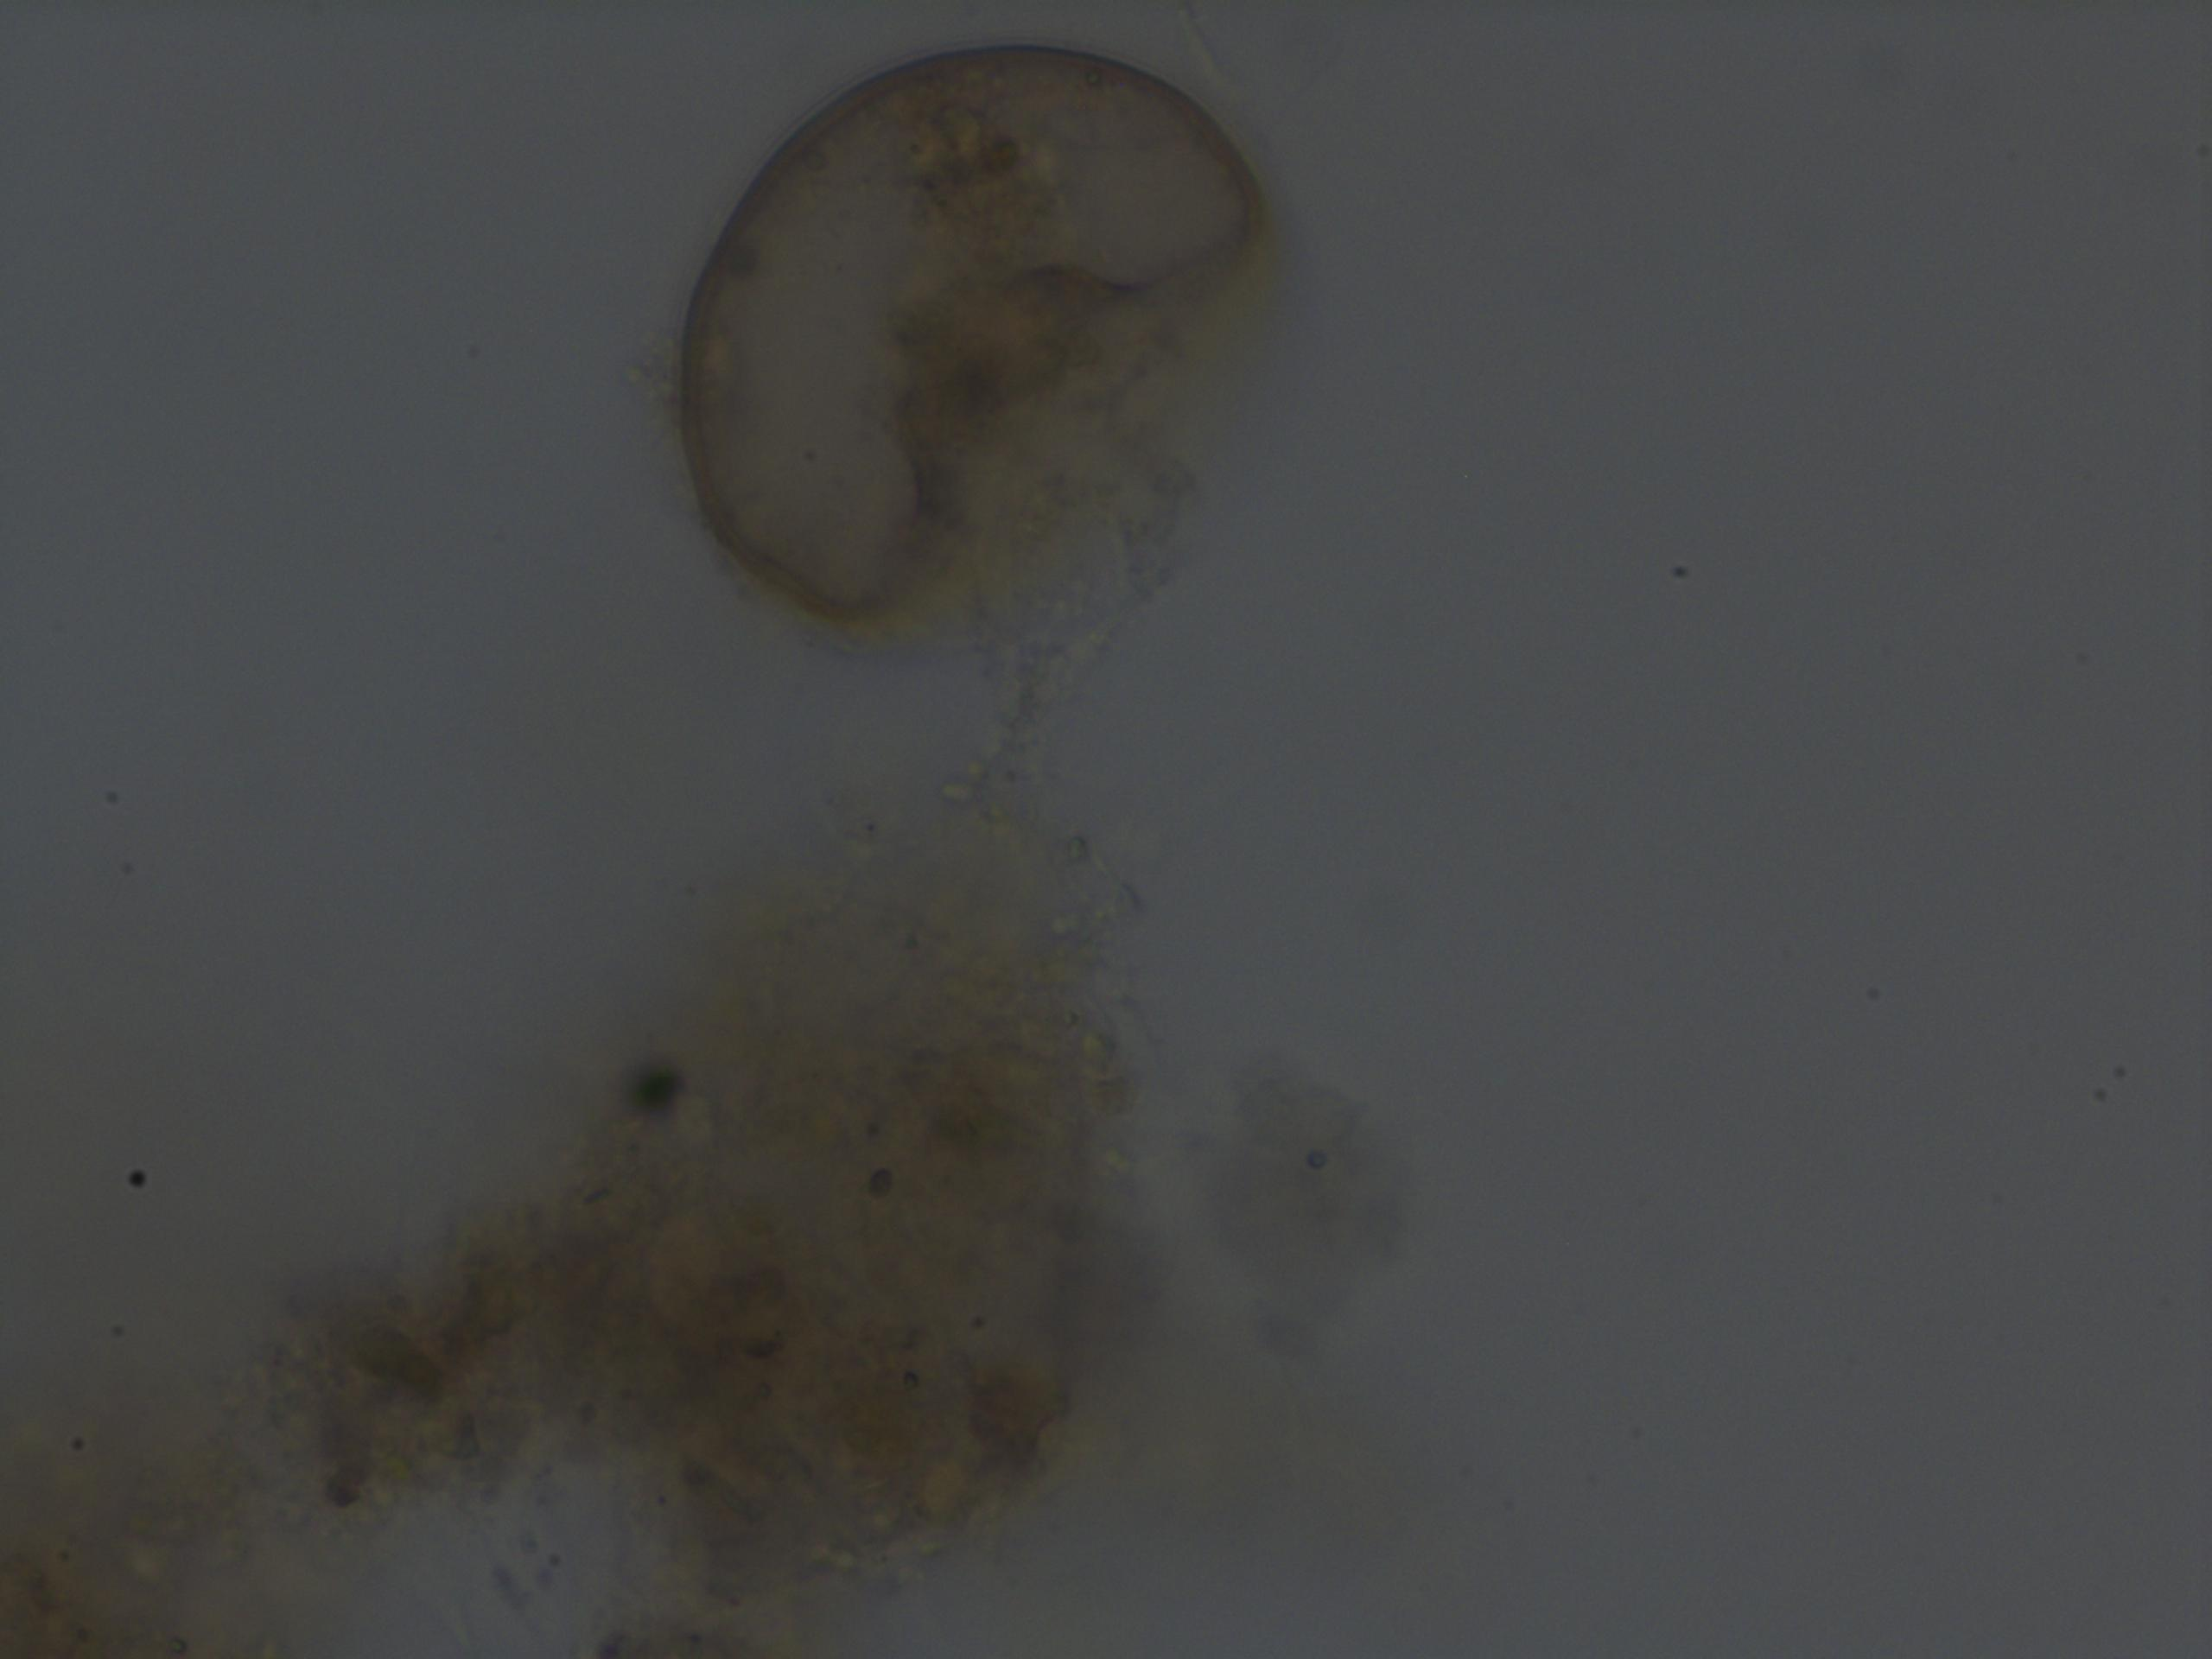protozoa: (664, 26, 1270, 645)
